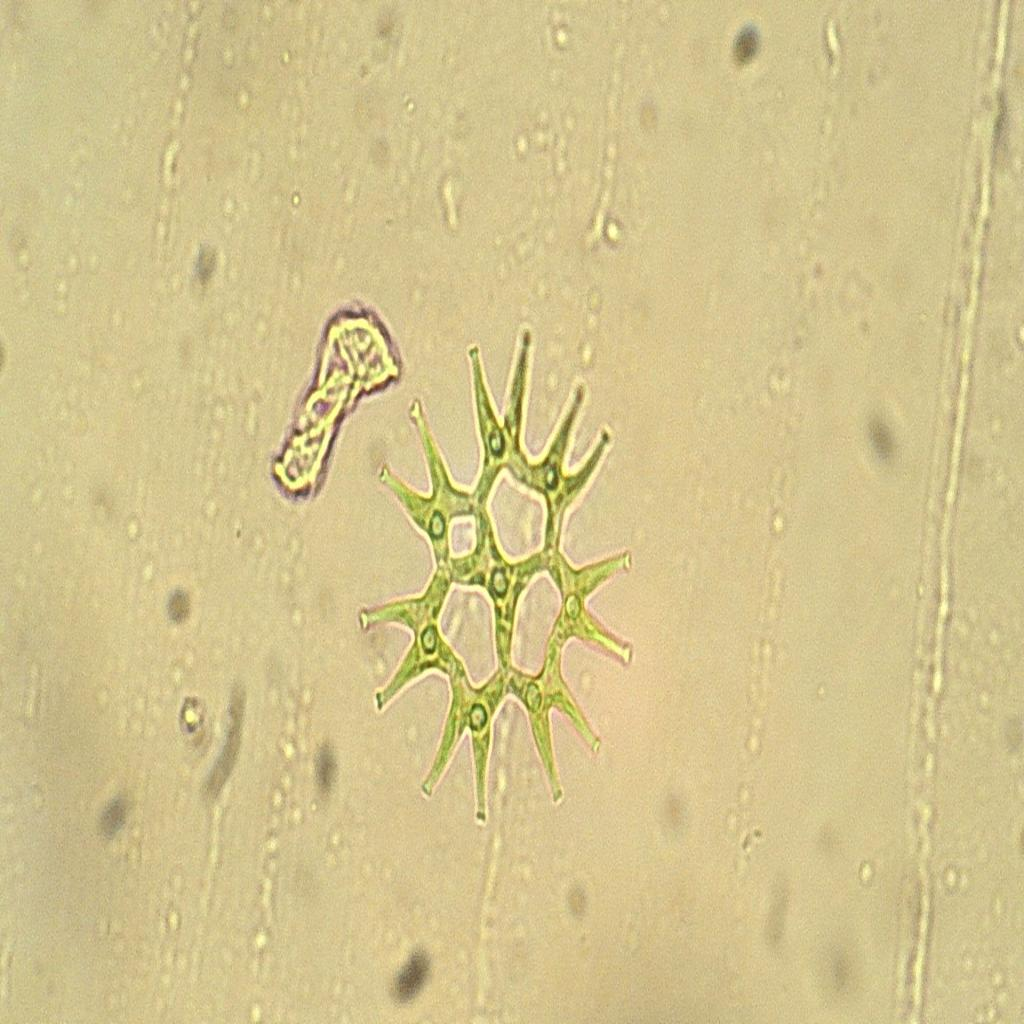Pediastrum_75T: (350, 306, 656, 838)
